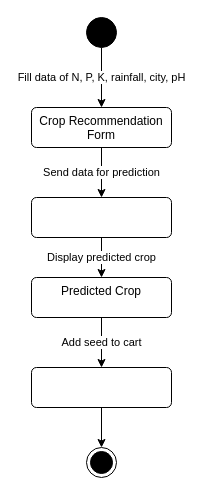
Image size: 202x495. Some labels were removed from this diagram. The centre of each missing label's shape, as x and y in pixels:
"Random Forest Classifier" belongs at (x=101, y=217).
"User's cart" belongs at (x=101, y=387).
